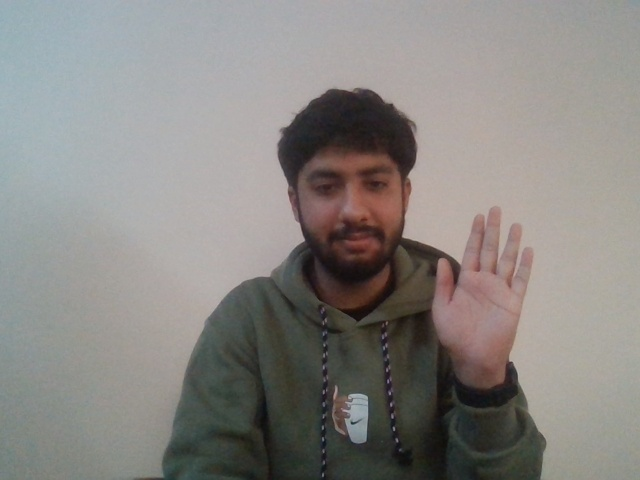Hello: (423, 207, 551, 365)
